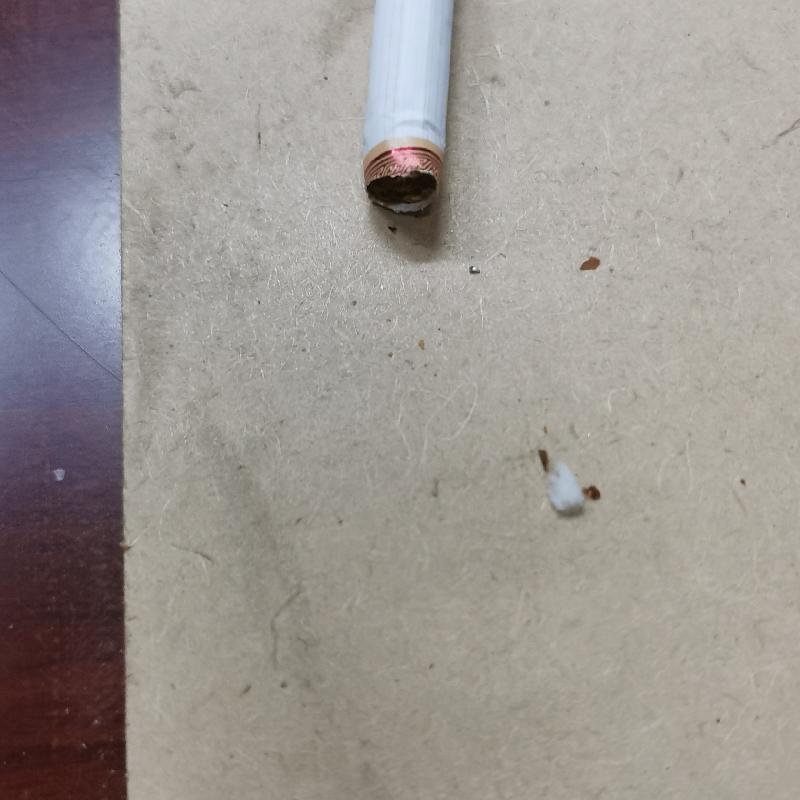cigarette: (358, 3, 457, 220)
